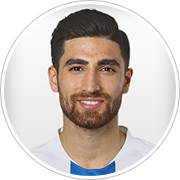smile: (77, 96, 105, 110)
